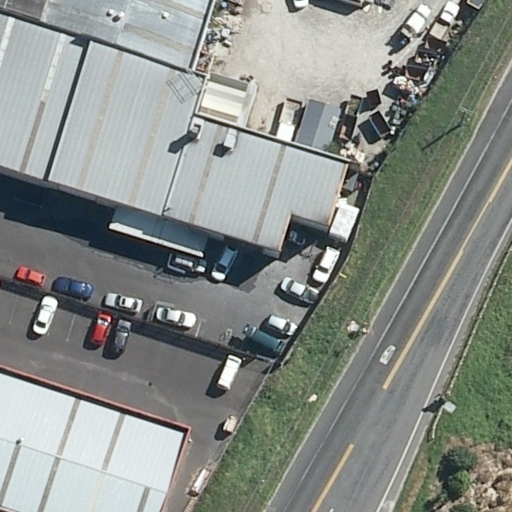DT: (450, 101, 477, 129)
